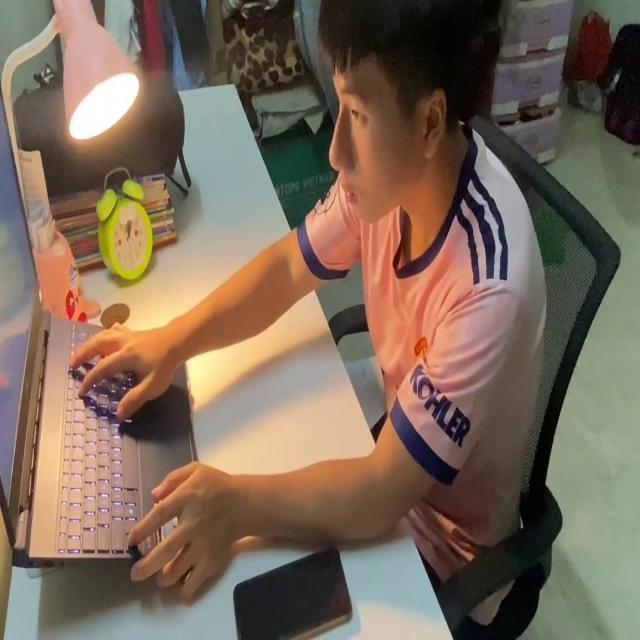book: (349, 360, 387, 432)
laptop: (0, 70, 213, 583)
phone: (228, 539, 355, 640)
student: (65, 1, 558, 614)
